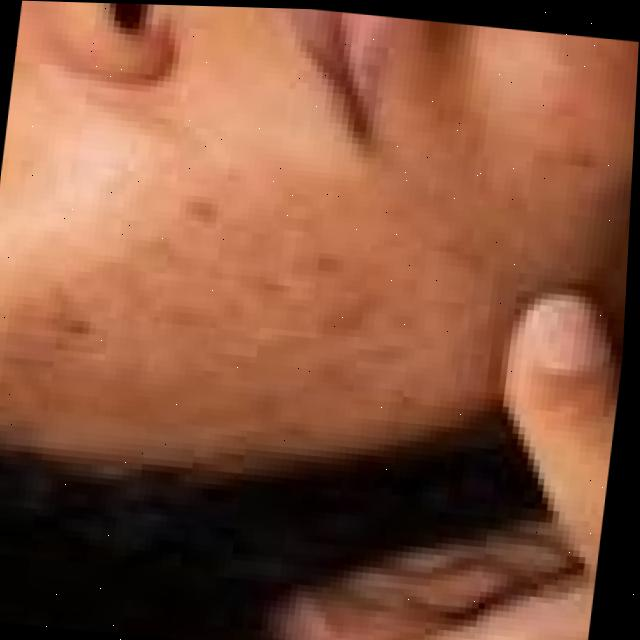Melasma: (33, 166, 444, 472)
